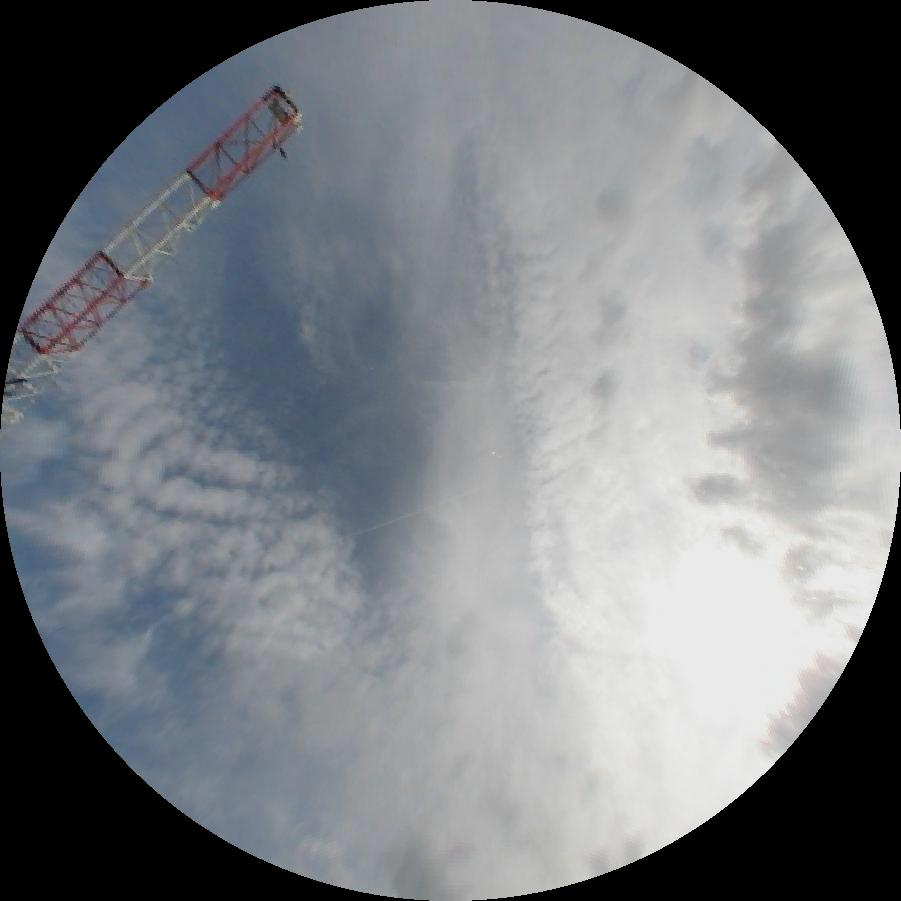contrail young: (340, 486, 480, 542)
sun: (614, 513, 837, 755)
